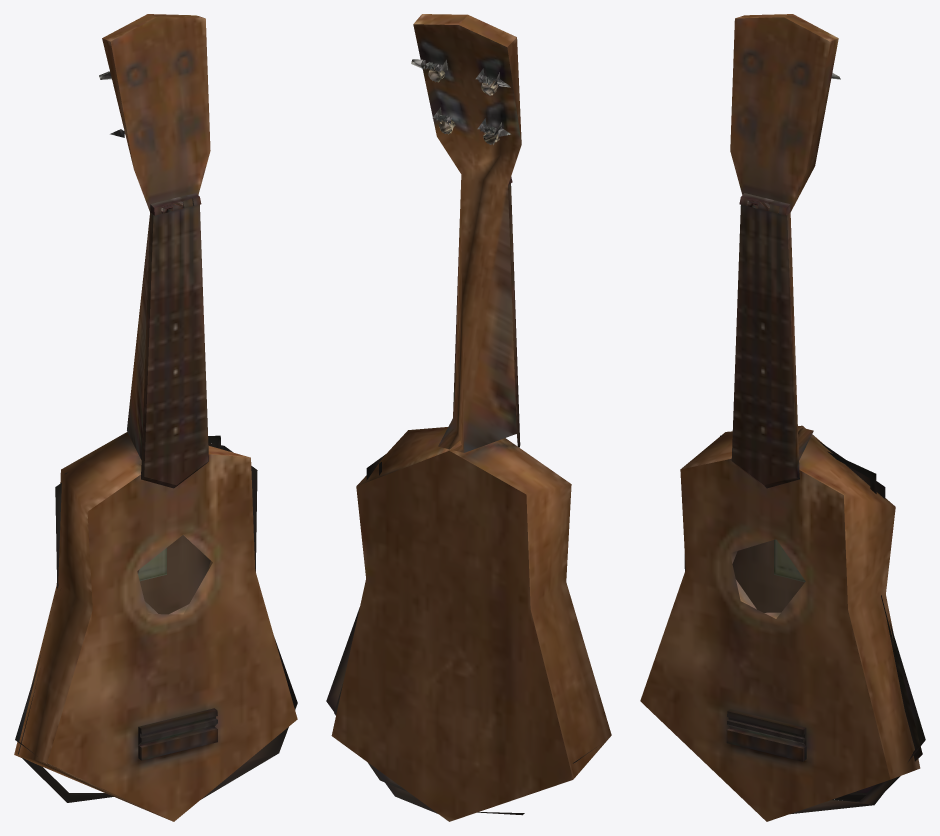
The model's file is ukulele.glb.
3 views of the same model, side by side, from view 1: azimuth 30°, elevation 25°; view 2: azimuth 150°, elevation 25°; view 3: azimuth 330°, elevation 25° (orthographic).
Visible parts, largest first — view 1: ukulele; view 2: ukulele; view 3: ukulele.
Boxes of the visible parts, x1,y1,x2,y2 form: ukulele: [14, 14, 297, 821]; ukulele: [326, 14, 611, 821]; ukulele: [640, 14, 925, 821].
Size of the model in its own units: 0.1745 by 0.5257 by 0.048.
Materials: 1 (1 with a texture image).
